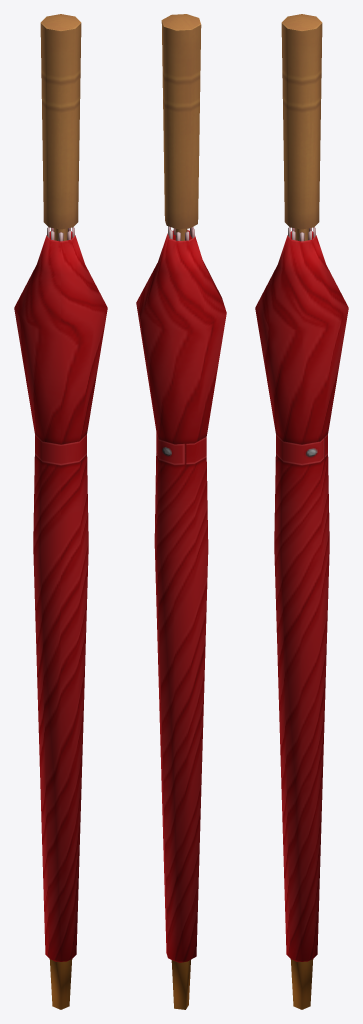
Rendered from set_umbrella_12.fbx.
The picture shows the model from 3 angles, left to right: view 1: azimuth 90°, elevation 25°; view 2: azimuth 210°, elevation 25°; view 3: azimuth 270°, elevation 25°; orthographic projection.
Parts seen in each view (by area): view 1: set_umbrella_12; view 2: set_umbrella_12; view 3: set_umbrella_12.
Boxes of the visible parts, box(x1,y1,x2,y2) form: set_umbrella_12: box(14, 14, 107, 1009); set_umbrella_12: box(136, 14, 226, 1009); set_umbrella_12: box(255, 14, 348, 1009).
Bounding box in the file's own units: 7.05 × 82.16 × 7.05.
